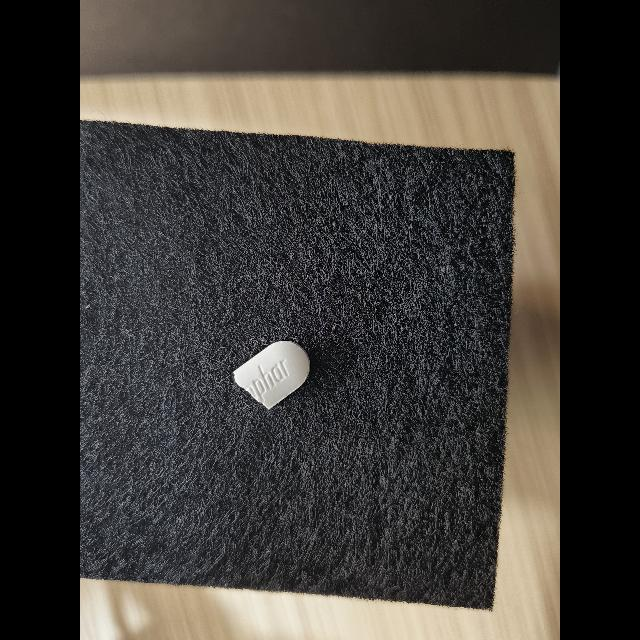Chipped Pill: (233, 340, 310, 410)
